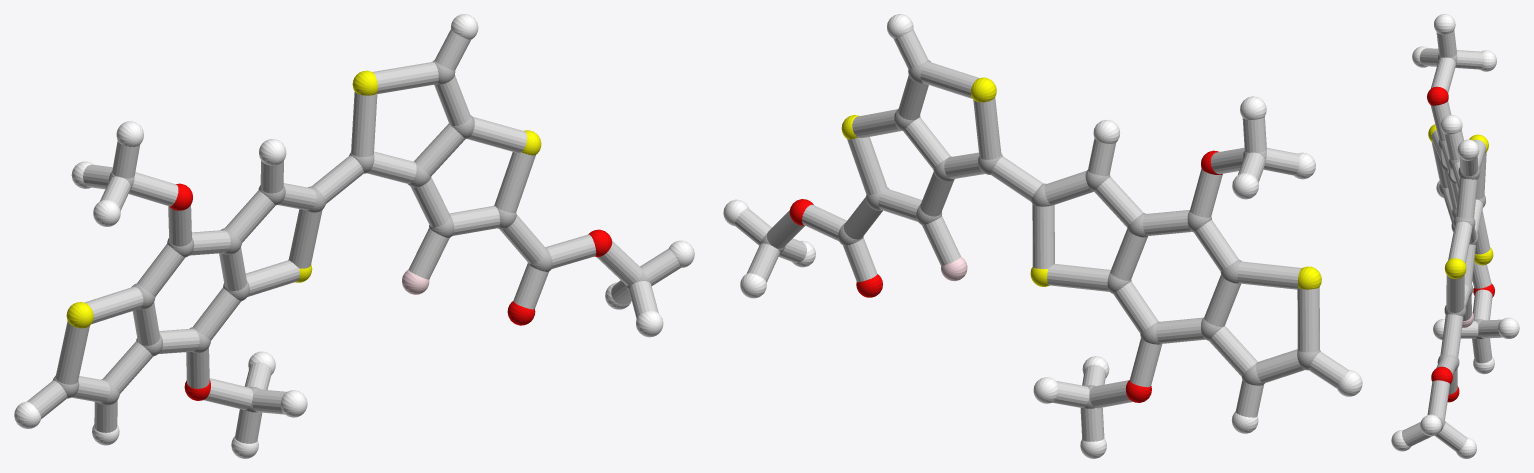
The model's file is color.glb.
3 renders of one model, left to right at view 1: azimuth 30°, elevation 25°; view 2: azimuth 150°, elevation 25°; view 3: azimuth 270°, elevation 25°, orthographic. The views are drawn at different scales.
Visible parts, largest first — view 1: grp15205, grp8689, grp1, grp7241, grp13395; view 2: grp15205, grp8689, grp1, grp7241, grp13395; view 3: grp15205, grp8689, grp1, grp13395, grp7241.
Part boxes in pixels (x1,y1,x2,y2): grp15205: [27, 29, 680, 443]; grp8689: [14, 14, 694, 458]; grp1: [52, 60, 649, 412]; grp7241: [66, 70, 541, 328]; grp13395: [169, 183, 612, 400]; grp15205: [734, 29, 1348, 441]; grp8689: [723, 14, 1362, 458]; grp1: [760, 59, 1320, 408]; grp7241: [841, 77, 1321, 289]; grp13395: [789, 150, 1222, 402]; grp15205: [1402, 30, 1502, 451]; grp8689: [1391, 14, 1519, 458]; grp1: [1435, 53, 1485, 435]; grp13395: [1427, 86, 1494, 402]; grp7241: [1428, 124, 1493, 278].
Size of the model in its own units: 16.72 by 9.55 by 3.54.
